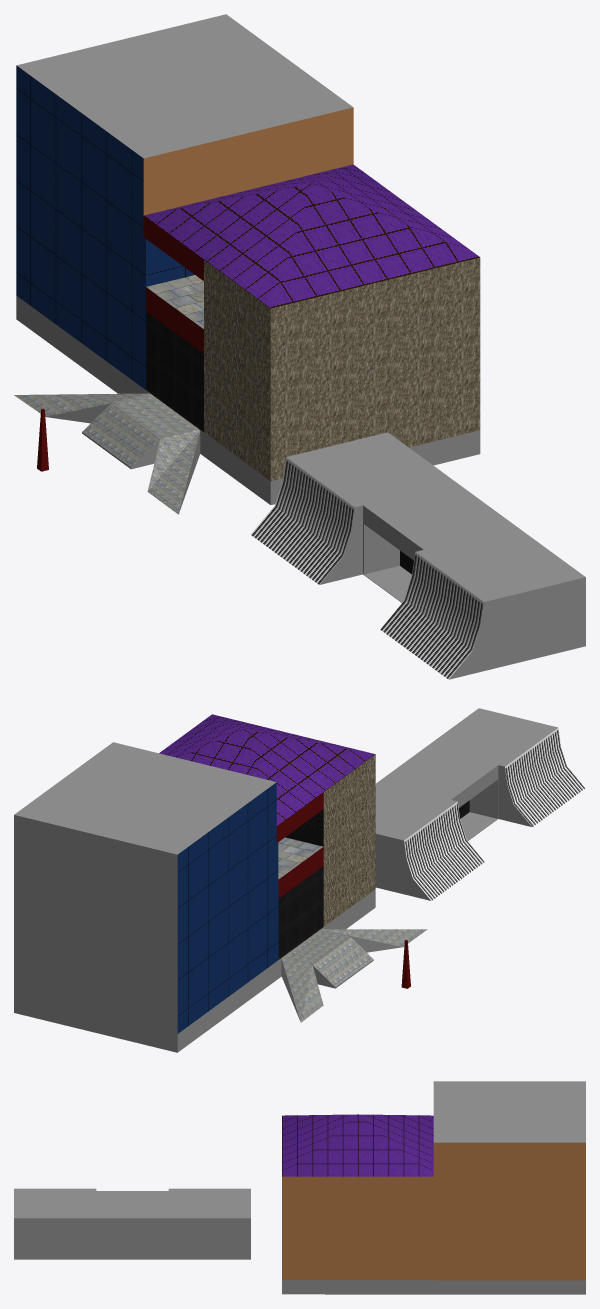
The model's file is palacio_cult.FBX.
The picture shows the model from 3 angles, top to bottom: view 1: azimuth 30°, elevation 25°; view 2: azimuth 150°, elevation 25°; view 3: azimuth 270°, elevation 25°; orthographic projection. The views are drawn at different scales.
Parts seen in each view (by area): view 1: palacio_cult; view 2: palacio_cult; view 3: palacio_cult.
Part boxes in pixels (<box>): palacio_cult: <box>14,14,585,679</box>; palacio_cult: <box>14,708,585,1052</box>; palacio_cult: <box>14,1081,585,1294</box>.
Bounding box in the file's own units: 31.56 × 22.08 × 75.28.
